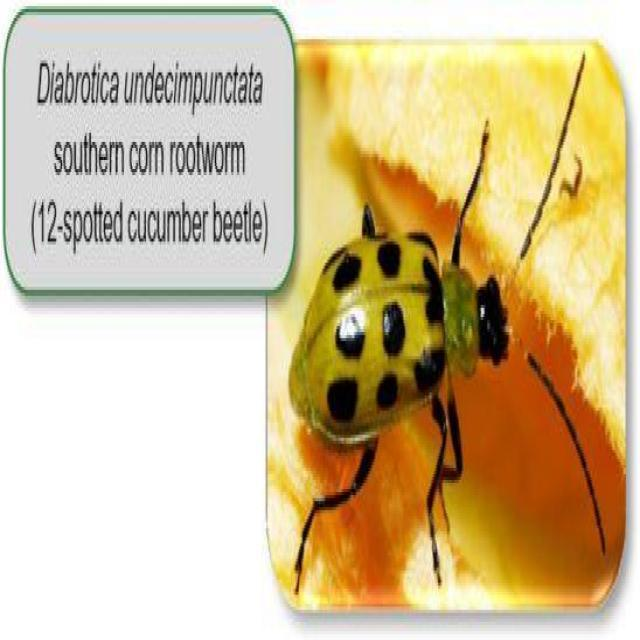gusano_verde: (286, 208, 607, 506)
